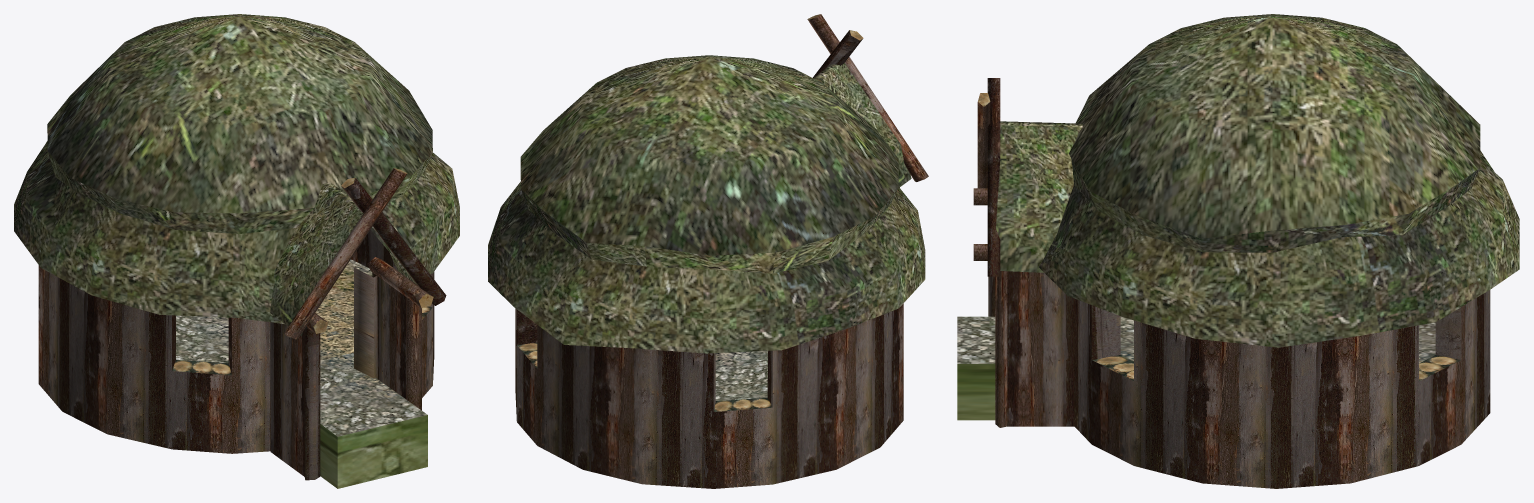
The model's file is building_hovel5.glb.
The picture shows the model from 3 angles, left to right: view 1: azimuth 30°, elevation 25°; view 2: azimuth 150°, elevation 25°; view 3: azimuth 270°, elevation 25°; orthographic projection. The views are drawn at different scales.
Visible parts, largest first — view 1: building_hovel5; view 2: building_hovel5; view 3: building_hovel5.
Boxes of the visible parts, bbox=[...] form: building_hovel5: bbox=[14, 14, 459, 488]; building_hovel5: bbox=[488, 14, 928, 488]; building_hovel5: bbox=[957, 14, 1519, 488].
Size of the model in its own units: 4.89 by 4.2 by 5.63.
6 materials, 6 textured.
